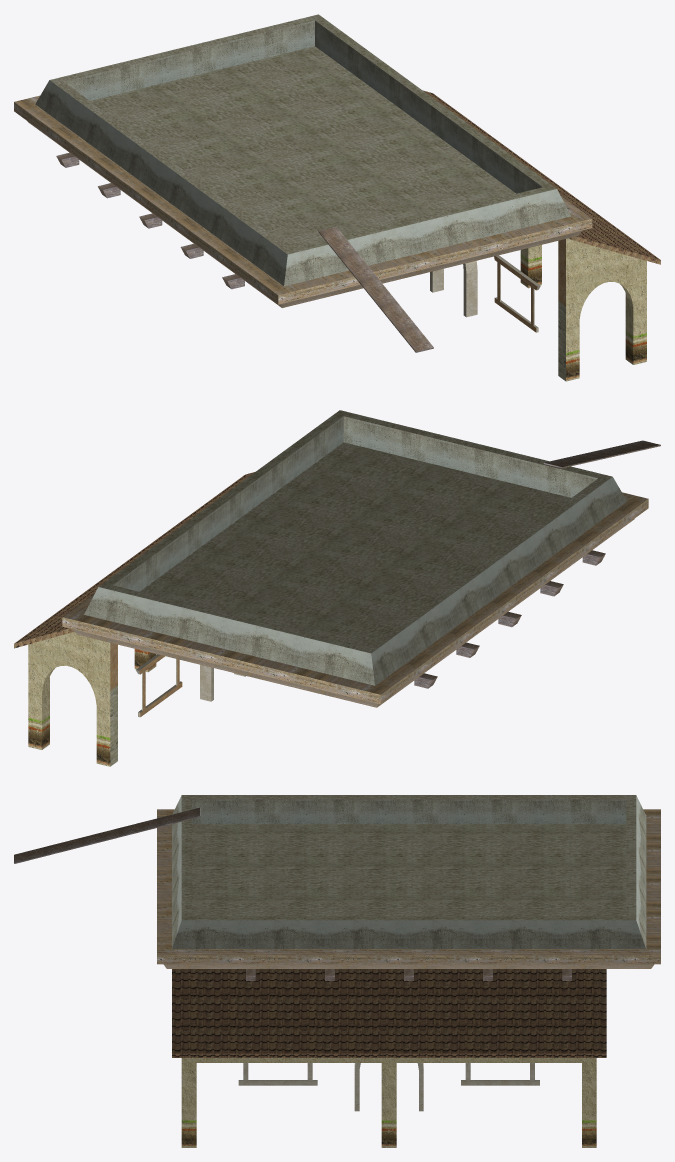
Rendered from StaticMesh3.fbx.
3 renders of one model, top to bottom at view 1: azimuth 30°, elevation 25°; view 2: azimuth 150°, elevation 25°; view 3: azimuth 270°, elevation 25°, orthographic. The views are drawn at different scales.
Parts seen in each view (by area): view 1: StaticMesh3; view 2: StaticMesh3; view 3: StaticMesh3.
Boxes of the visible parts, x1,y1,x2,y2 form: StaticMesh3: (14,14,660,381); StaticMesh3: (14,410,660,766); StaticMesh3: (14,795,660,1147).
Size of the model in its own units: 70400 by 34331 by 104754.
